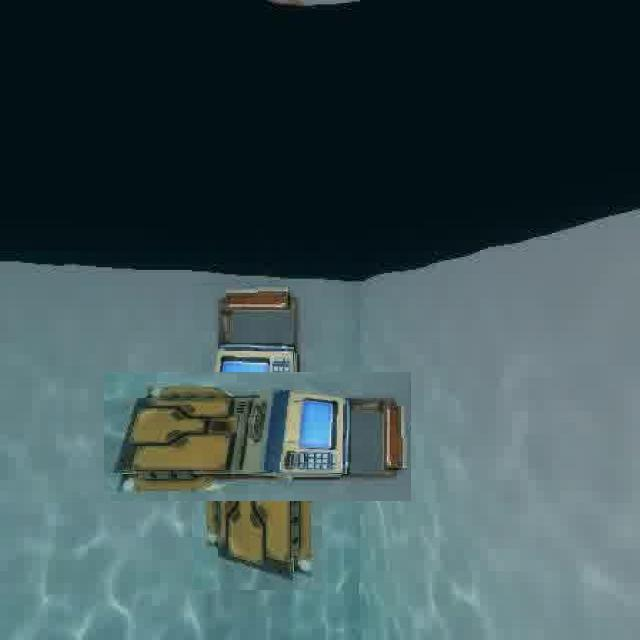Control Panel: (148, 328, 366, 546)
